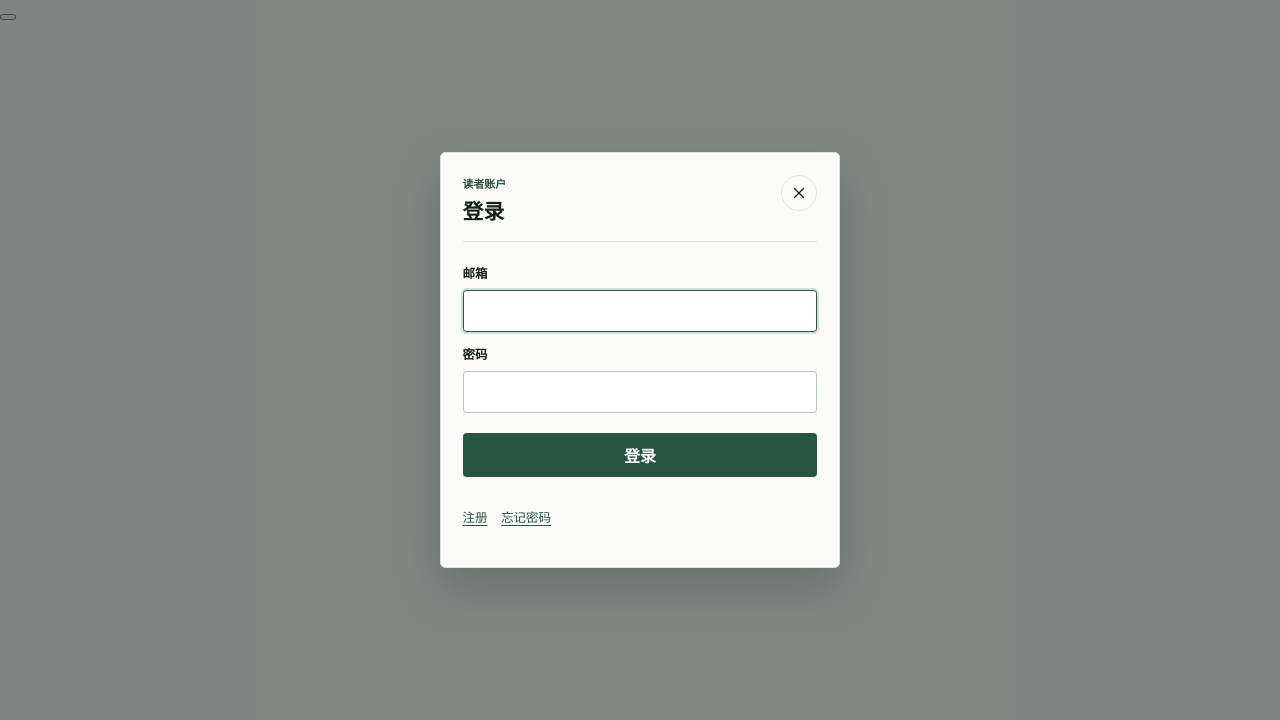
Test: AuthDialog › shows field errors and busy state, then closes with Escape and restores focus
Type "reader@example.com" into the field named "email".
click(640, 311); type("reader@example.com")  # box [463,290,817,332]
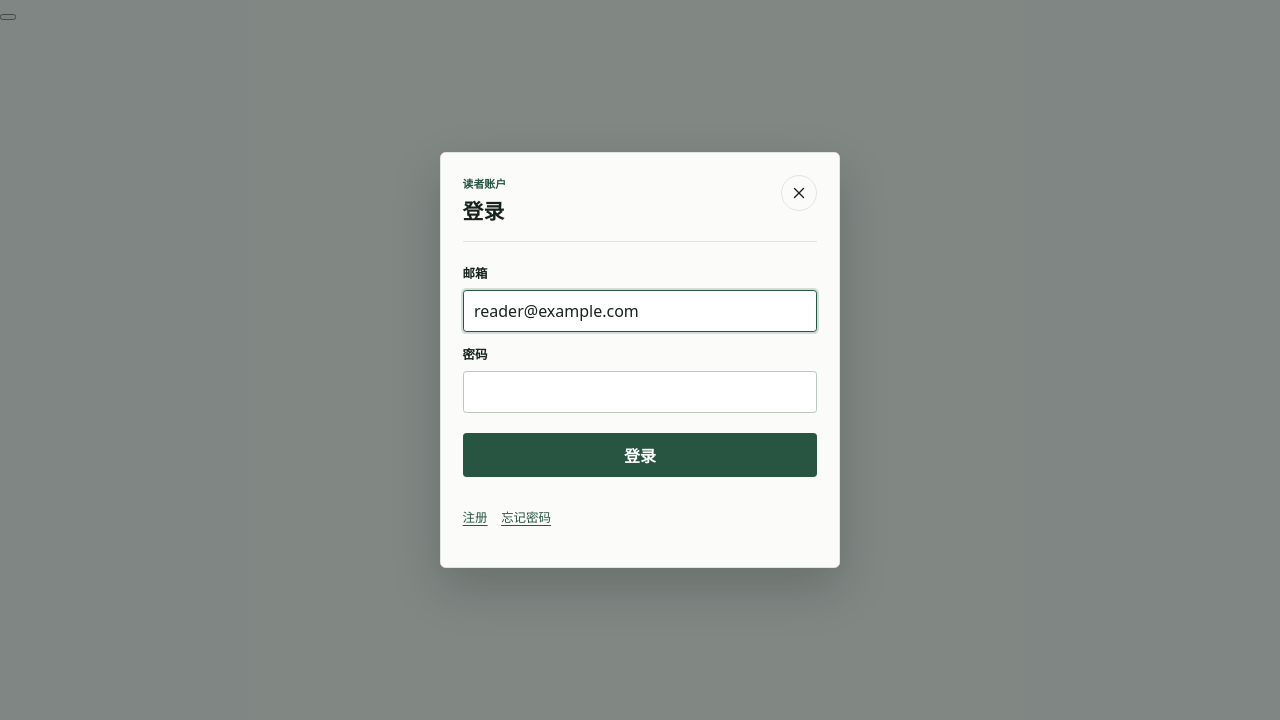
Type "password123" into the password field named "password".
click(640, 392); type("password123")  # box [463,371,817,413]
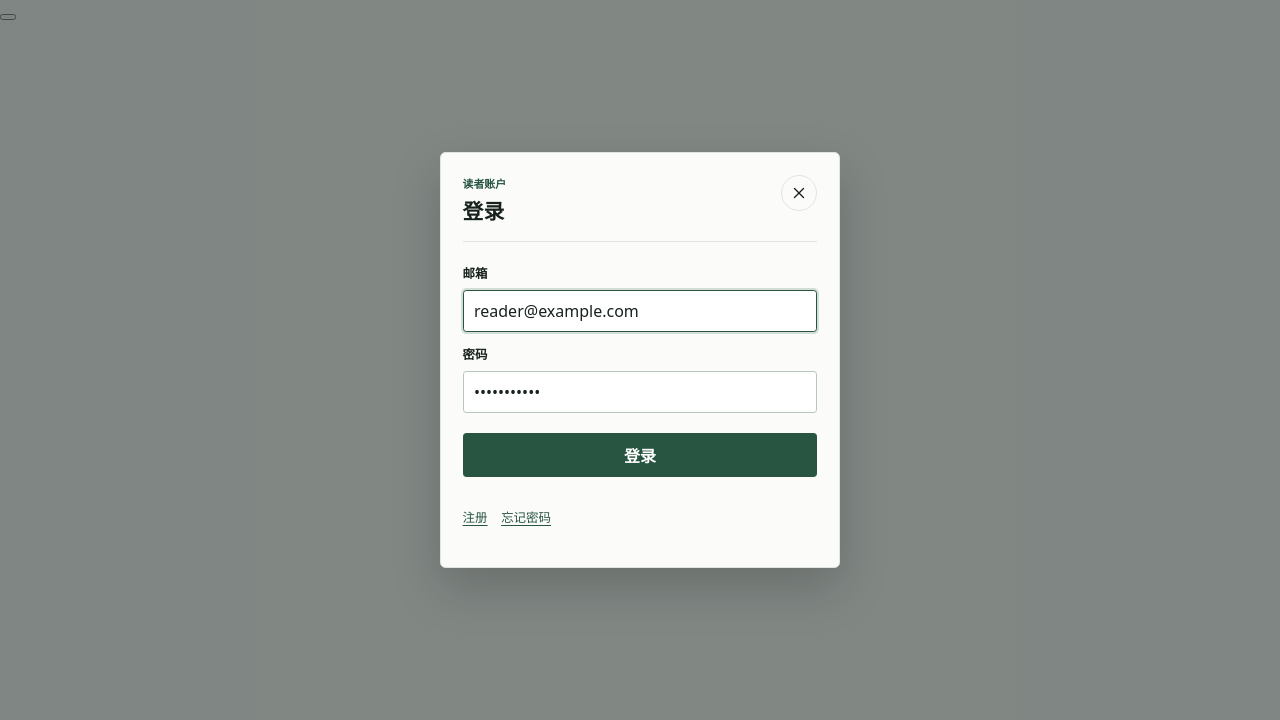
Submit the form, box [463,242,817,477]
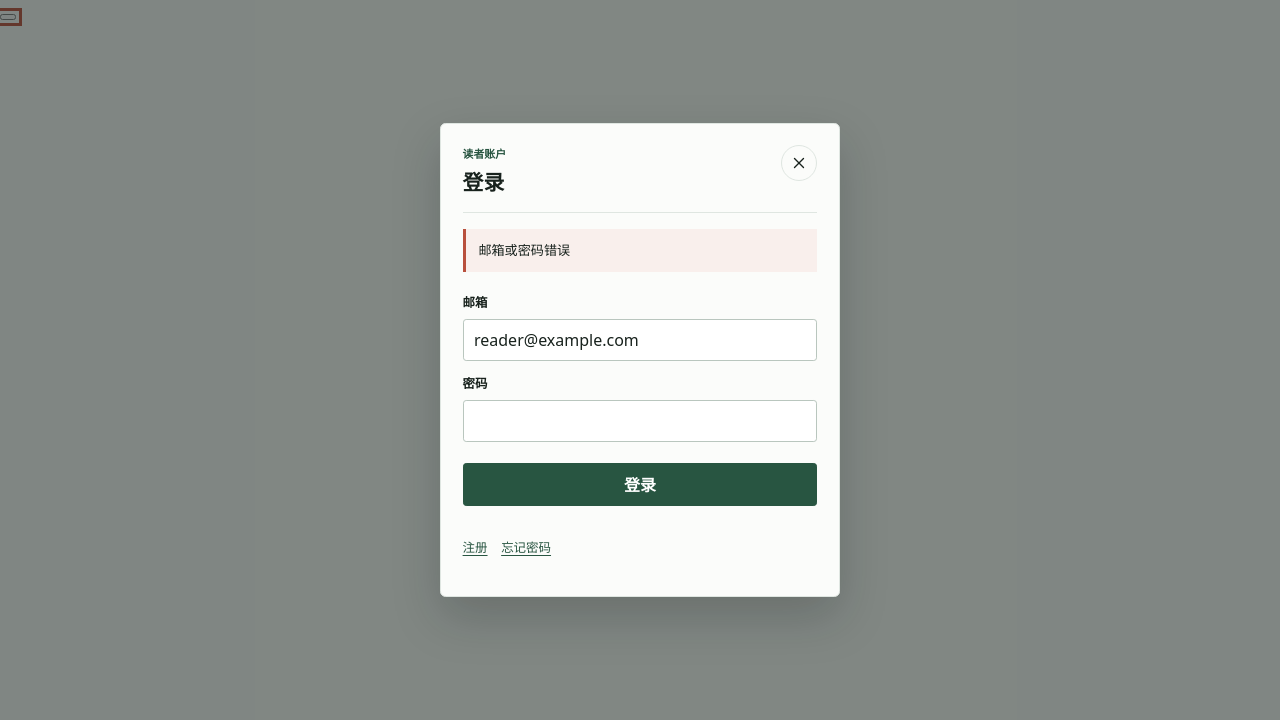
Expected: the message "邮箱或密码错误" is shown, [463,229,817,272]
